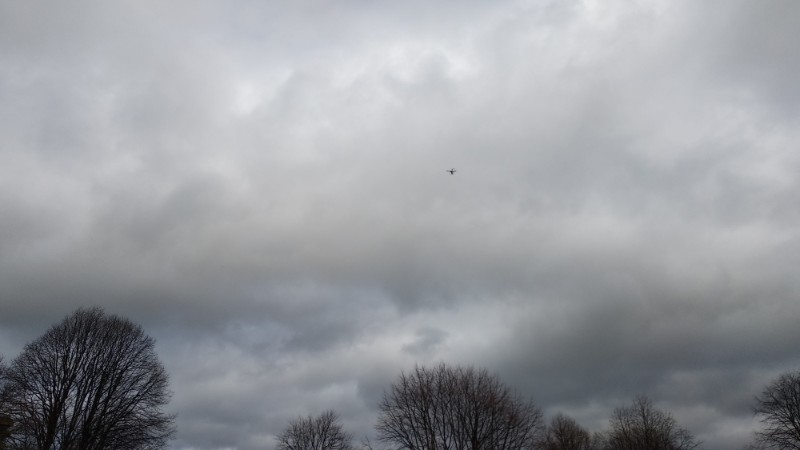drone: (445, 167, 456, 175)
